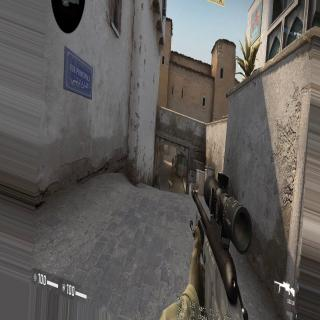T-Body: (157, 165, 161, 189), (172, 157, 174, 168)
T-Head: (158, 166, 160, 169), (172, 157, 174, 159)
